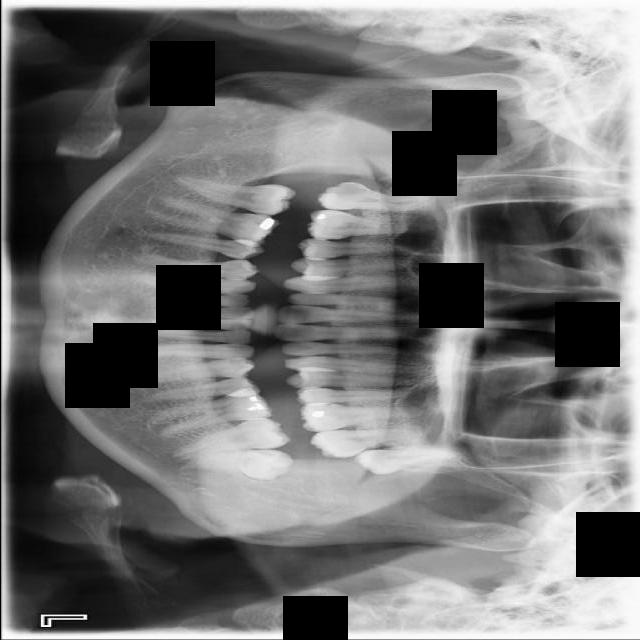52: (222, 201, 280, 255), (297, 398, 350, 435), (224, 387, 273, 421), (305, 209, 354, 240)
73: (38, 615, 51, 621)
BioHorizons Implant: (309, 424, 425, 459)
BioLife Implant: (354, 448, 458, 477)
Biomet 3i Implant: (180, 448, 292, 482)
Blue Sky Bio Implant: (168, 414, 289, 462)
Caries: (317, 180, 435, 215)
Implant: (170, 173, 298, 220)
